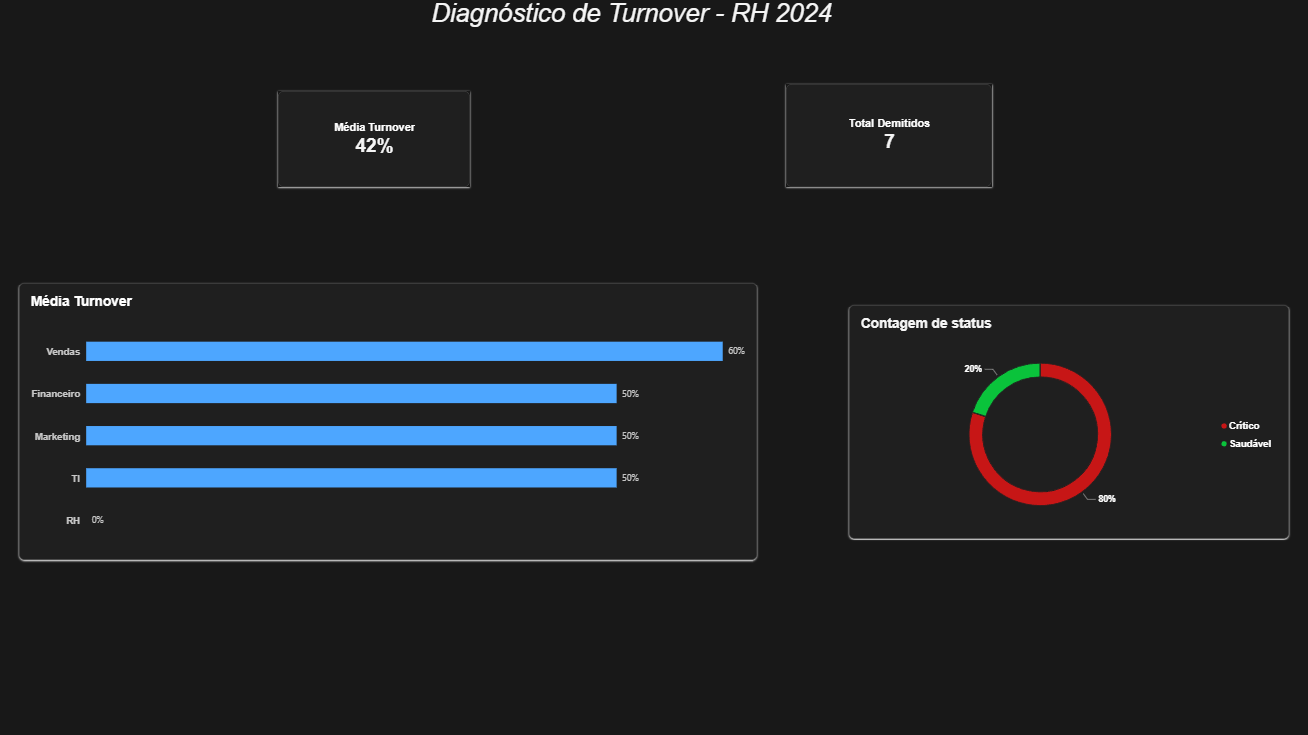

The page's visual inventory and layout, read from the dashboard file:
{"tool":"powerbi","page":{"name":"Página 1","canvas":[1920,1080],"ordinal":0},"visuals":[{"type":"cardVisual","fields":{"Data":["turnover_dept.Média Turnover"]},"box":[410,134.2,280.1,140.1],"z":0},{"type":"cardVisual","fields":{"Data":["turnover_dept.Total Demitidos"]},"box":[1151.1,124,300.5,150.3],"z":1},{"type":"barChart","title":"Média Turnover","fields":{"Category":["turnover_dept.nome_dept"],"Y":["turnover_dept.Média Turnover"]},"box":[32.1,414.3,1076.7,404.1],"z":2},{"type":"donutChart","title":"Contagem de status","fields":{"Category":["turnover_dept.status_turnover"],"Y":["CountNonNull(turnover_dept.nome_dept)"]},"box":[1243,446.4,641.9,341.4],"z":3},{"type":"textbox","box":[550,0,751.4,97.8],"z":4}]}

Visuals, with their boxes in screenshot pixels (x1, y1, x2, y2), scaled from the page's 1920x1080 canvas onto the 1308x735 screenshot:
cardVisual - turnover_dept.Média Turnover: pyautogui.locateOnScreen(279, 91, 470, 187)
cardVisual - turnover_dept.Total Demitidos: pyautogui.locateOnScreen(784, 84, 989, 187)
"Média Turnover" barChart: pyautogui.locateOnScreen(22, 282, 755, 557)
"Contagem de status" donutChart: pyautogui.locateOnScreen(847, 304, 1284, 536)
textbox: pyautogui.locateOnScreen(375, 0, 887, 67)
